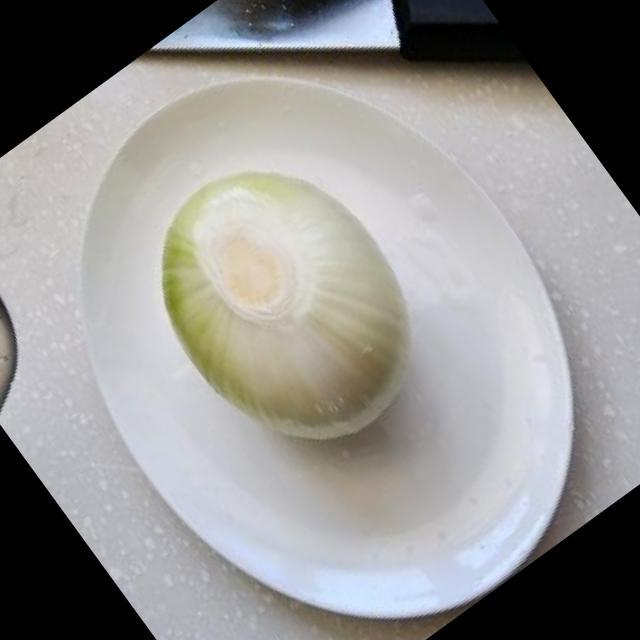Onion: (159, 169, 417, 437)
